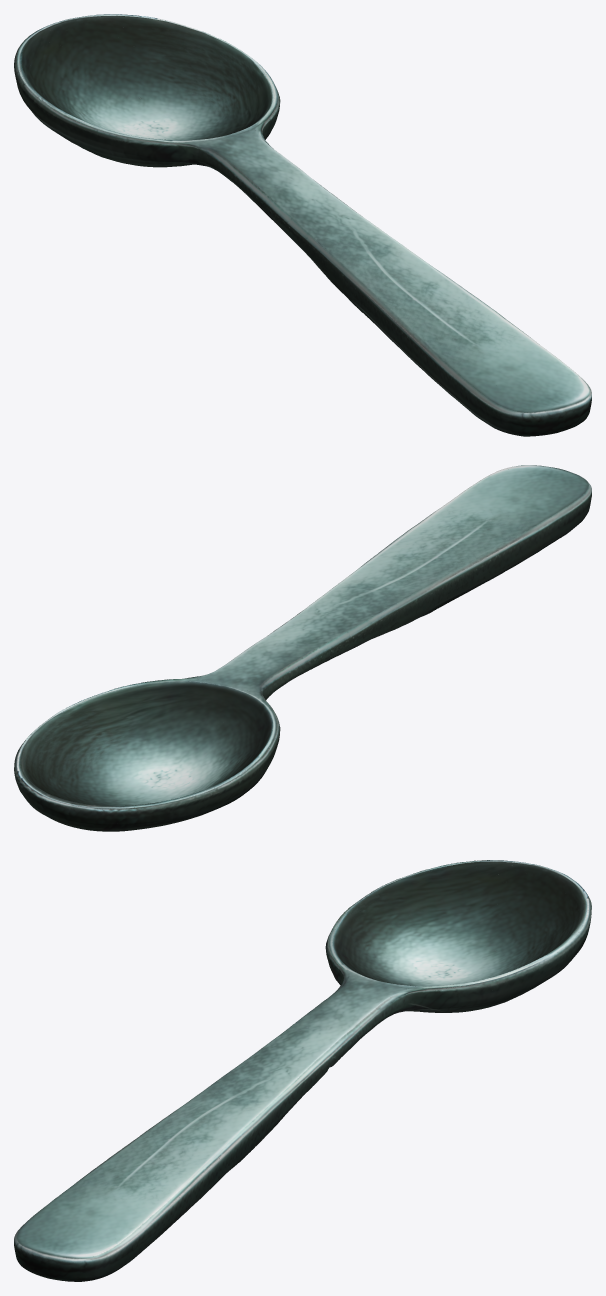
File: Spoon.glb
The picture shows the model from 3 angles, top to bottom: view 1: azimuth 30°, elevation 25°; view 2: azimuth 150°, elevation 25°; view 3: azimuth 330°, elevation 25°; orthographic projection.
Visible parts, largest first — view 1: texture_mapping; view 2: texture_mapping; view 3: texture_mapping.
Boxes of the visible parts, x1,y1,x2,y2 form: texture_mapping: [14, 14, 591, 436]; texture_mapping: [14, 465, 591, 831]; texture_mapping: [14, 860, 591, 1281].
Bounding box in the file's own units: 0.2387 × 0.0692 × 0.9928.
1 material, 1 textured.
